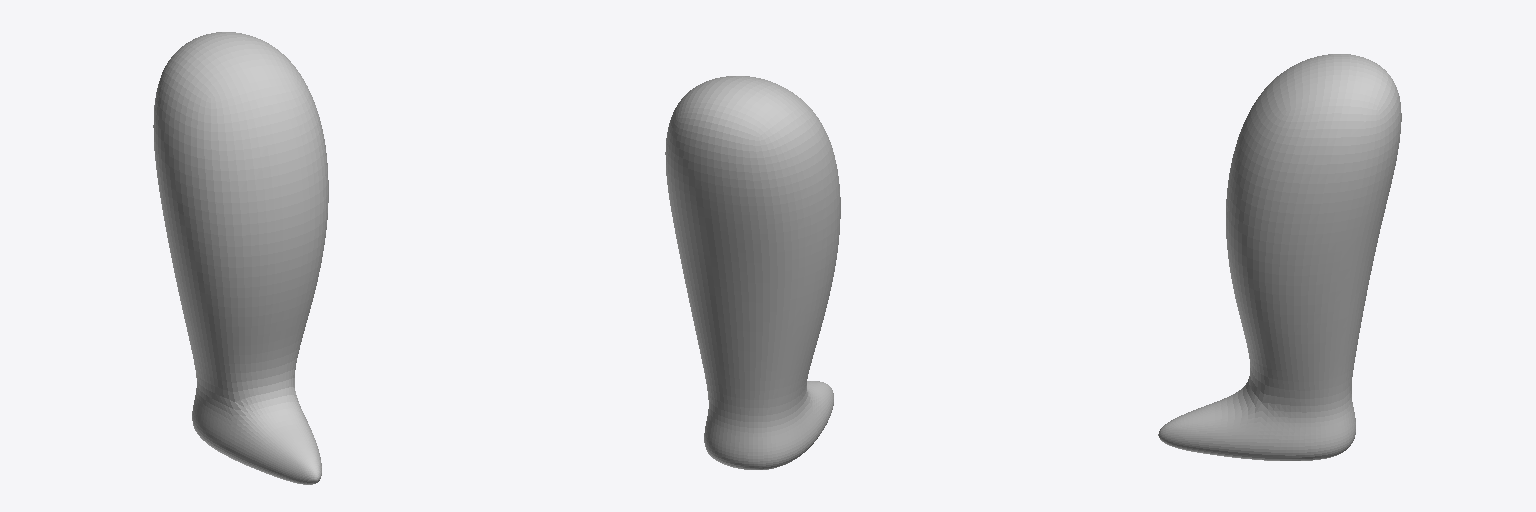
Rendered from piernaIzq.obj.
The picture shows the model from 3 angles: view 1: azimuth 30°, elevation 25°; view 2: azimuth 150°, elevation 25°; view 3: azimuth 270°, elevation 25°; orthographic projection.
Parts seen in each view (by area): view 1: piernaIzqElRey_Mesh; view 2: piernaIzqElRey_Mesh; view 3: piernaIzqElRey_Mesh.
Boxes of the visible parts, x1,y1,x2,y2 form: piernaIzqElRey_Mesh: [153, 32, 328, 484]; piernaIzqElRey_Mesh: [665, 76, 840, 469]; piernaIzqElRey_Mesh: [1158, 54, 1401, 460].
Size of the model in its own units: 0.8804 by 2.22 by 1.26.